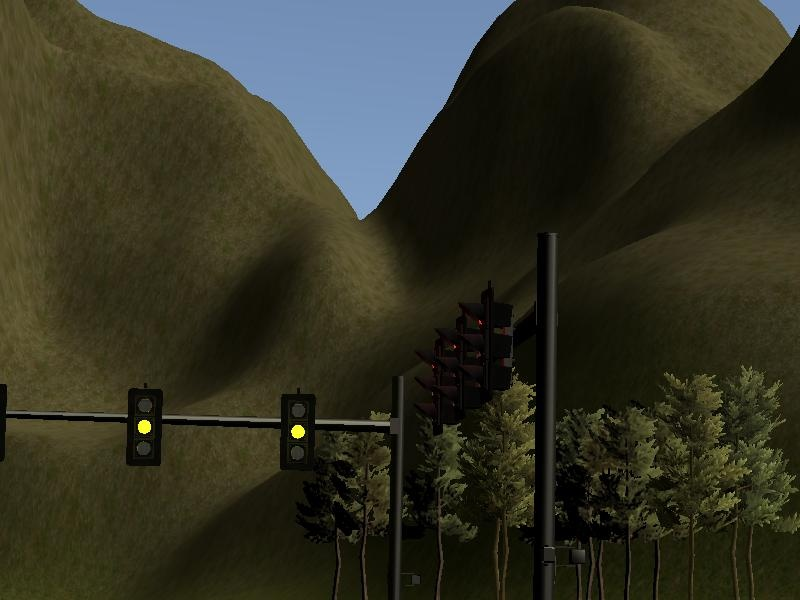YELLOW: (126, 387, 163, 470), (280, 390, 317, 473)
